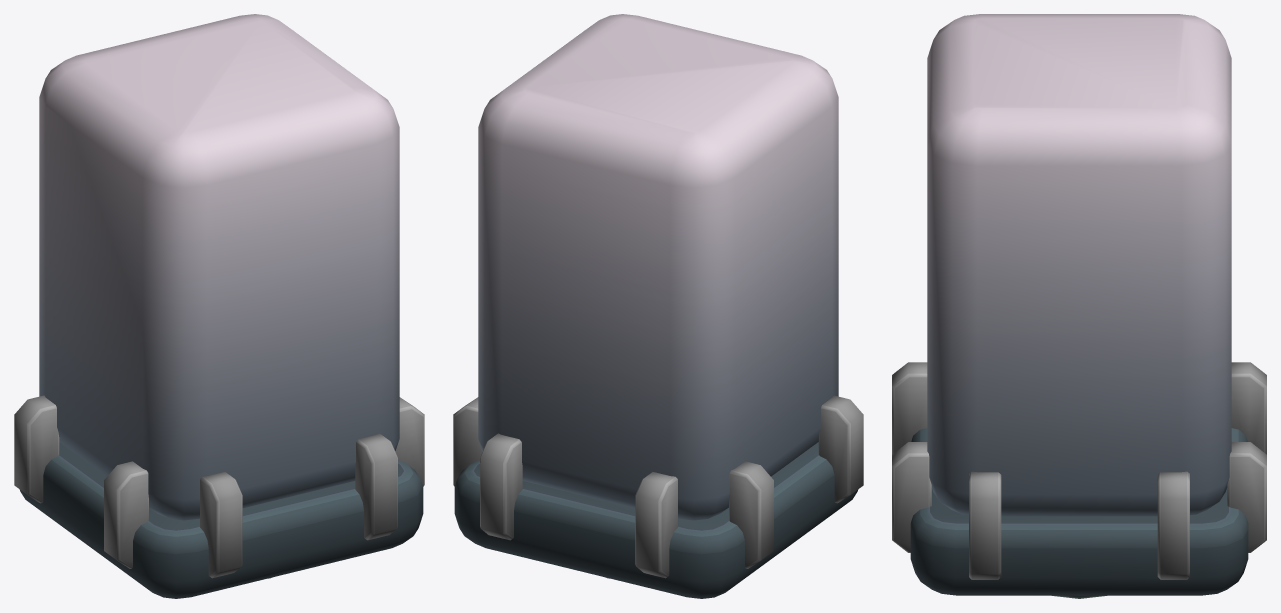
The model's file is sp_food_grower_can_empty.fbx.
3 views of the same model, side by side, from view 1: azimuth 30°, elevation 25°; view 2: azimuth 150°, elevation 25°; view 3: azimuth 270°, elevation 25° (orthographic). The views are drawn at different scales.
Visible parts, largest first — view 1: Food_canister; view 2: Food_canister; view 3: Food_canister.
Part boxes in pixels (box(x1,y1,x2,y2)): Food_canister: box(14, 14, 424, 598); Food_canister: box(453, 14, 863, 598); Food_canister: box(892, 14, 1266, 598).
Size of the model in its own units: 52.23 by 78.42 by 52.23.
